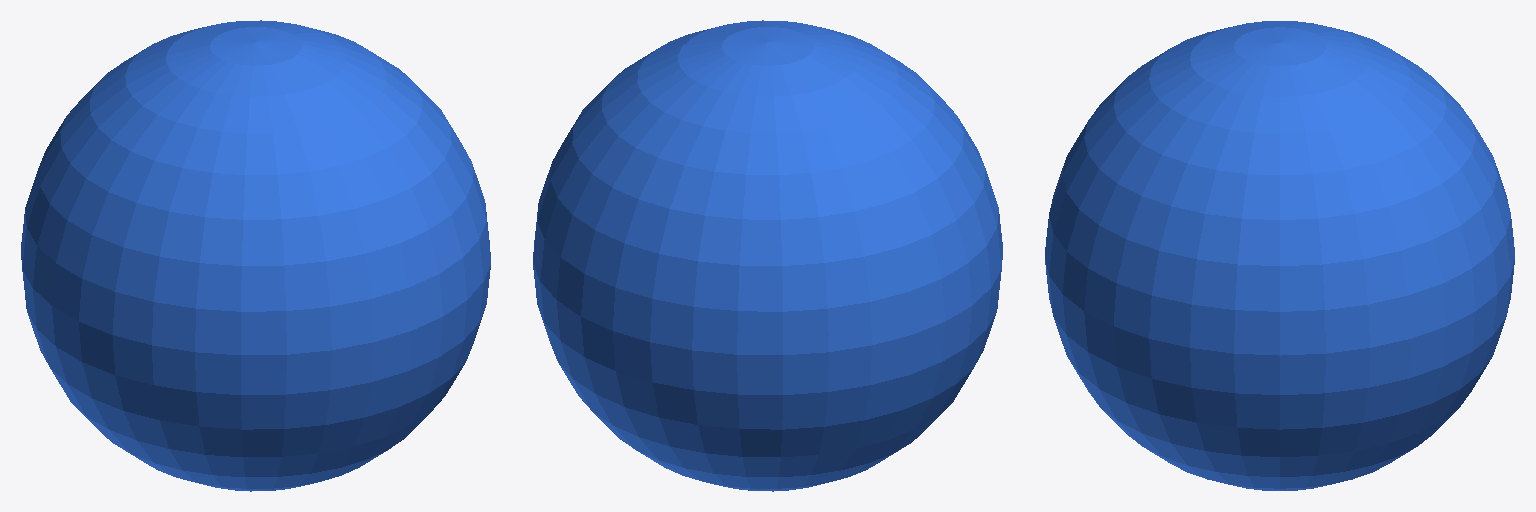
robot.urdf — goal_state:
<?xml version="1.0" encoding="utf-8"?>
<robot name="goal_state">
  <link name="world"/>
  <material name="Blue">
    <color rgba="0.28 0.52 0.92 1.0"/>0
  </material>
  <material name="red">
    <color rgba="0.9 0.2 0.2 1.0"/>0
  </material>
  <material name="green">
    <color rgba="0.25 0.9 0.2 1.0"/>0
  </material>

  <link name="stem">
    <visual>
      <geometry>
        <sphere radius="0.01"/>
      </geometry>
      <origin rpy="0 0 0" xyz="0 0 0"/>
      <material name="Blue"/>
    </visual>
    <inertial>
      <origin rpy="0 0 0" xyz="0 0 0"/>
      <mass value="0.01"/>
        <inertia  ixx="0.00001" ixy="0.0" ixz="0.0"
                  iyy="0.00001" iyz="0.0"
                  izz="0.00001" />    
    </inertial>
  </link>

  <joint name="joint1" type="fixed">
    <parent link="world"/>
    <child link="stem"/>
    <origin rpy="0 0 0" xyz="0 0 0"/>
  </joint>

</robot>

--- Facts derived from the render (not from the file) ---
Views: 3 orthographic renders of the robot side by side, from view 1: azimuth 30°, elevation 25°; view 2: azimuth 150°, elevation 25°; view 3: azimuth 270°, elevation 25°.
Model goal_state with 2 links and 1 joints (1 fixed), rooted at world, posed every joint at zero.
Visible links, largest first — view 1: stem; view 2: stem; view 3: stem.
Link boxes in pixels (<box>): stem: <box>21,20,490,491</box>; stem: <box>533,20,1002,491</box>; stem: <box>1045,21,1514,490</box>.
Bounding box of the posed robot: 0.02 × 0.02 × 0.02 m (x, y, z).
Geometry: primitives only (box / cylinder / sphere), no mesh files.